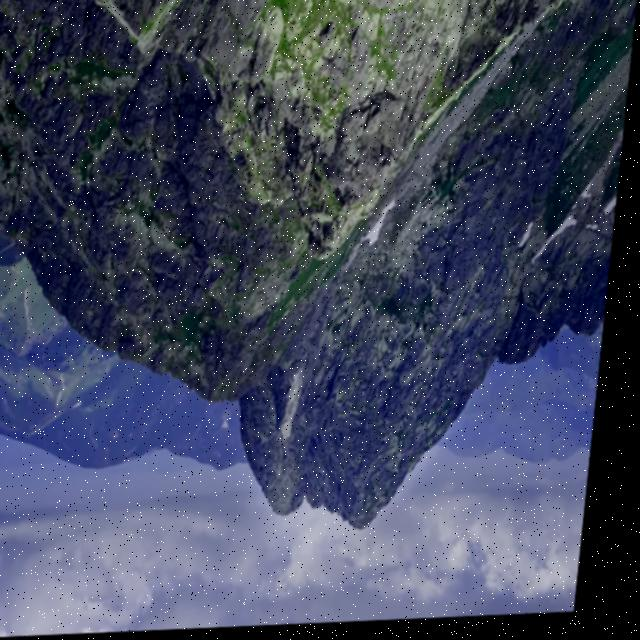Swinica: (217, 423, 499, 626)
